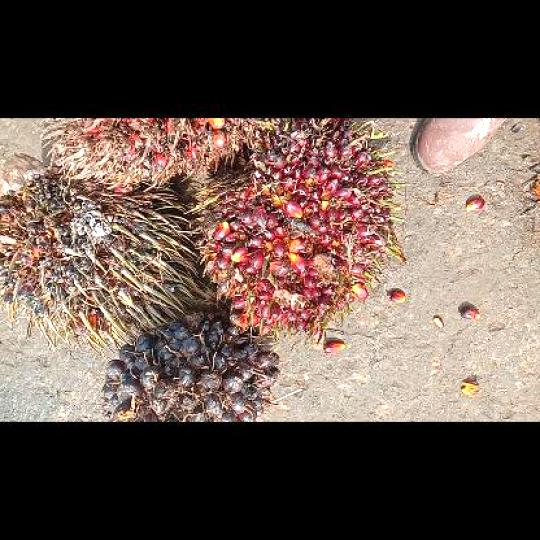masak: (198, 118, 397, 329)
terlalu masak: (43, 118, 274, 183)
